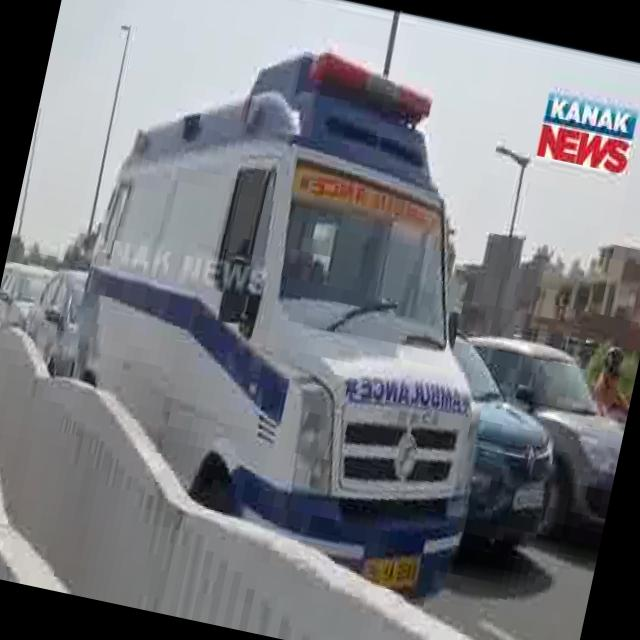ambulance: (35, 10, 550, 608)
